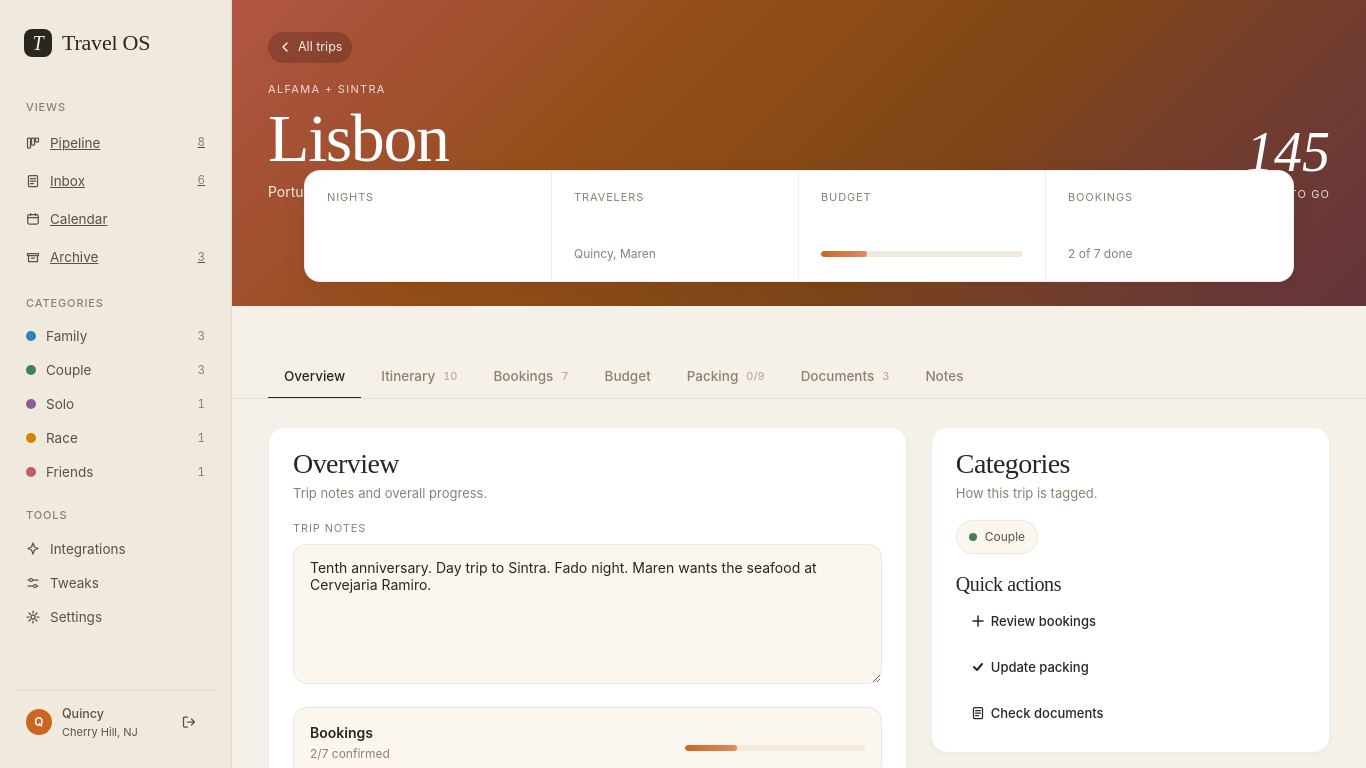
Test: route components › budget split mark paid removes settle row
Expected: the heading "Lisbon" is shown, left=268, top=107, right=467, bottom=171
Click the tab "Budget" at (628, 378), box left=588, top=358, right=667, bottom=399
(page scrolled)
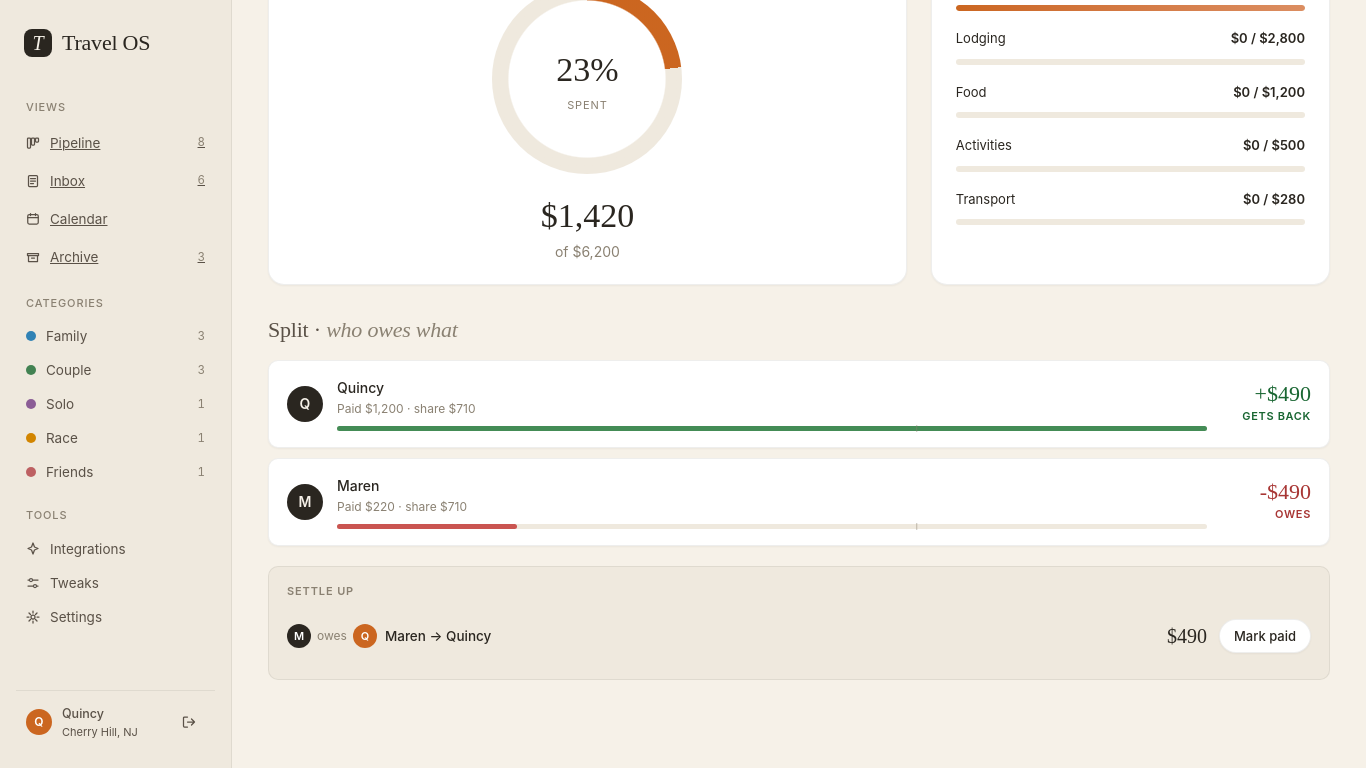
Result: the button "Mark paid" is shown
Click the button "Mark paid" at (1265, 636), box left=1219, top=619, right=1311, bottom=653
(page scrolled)
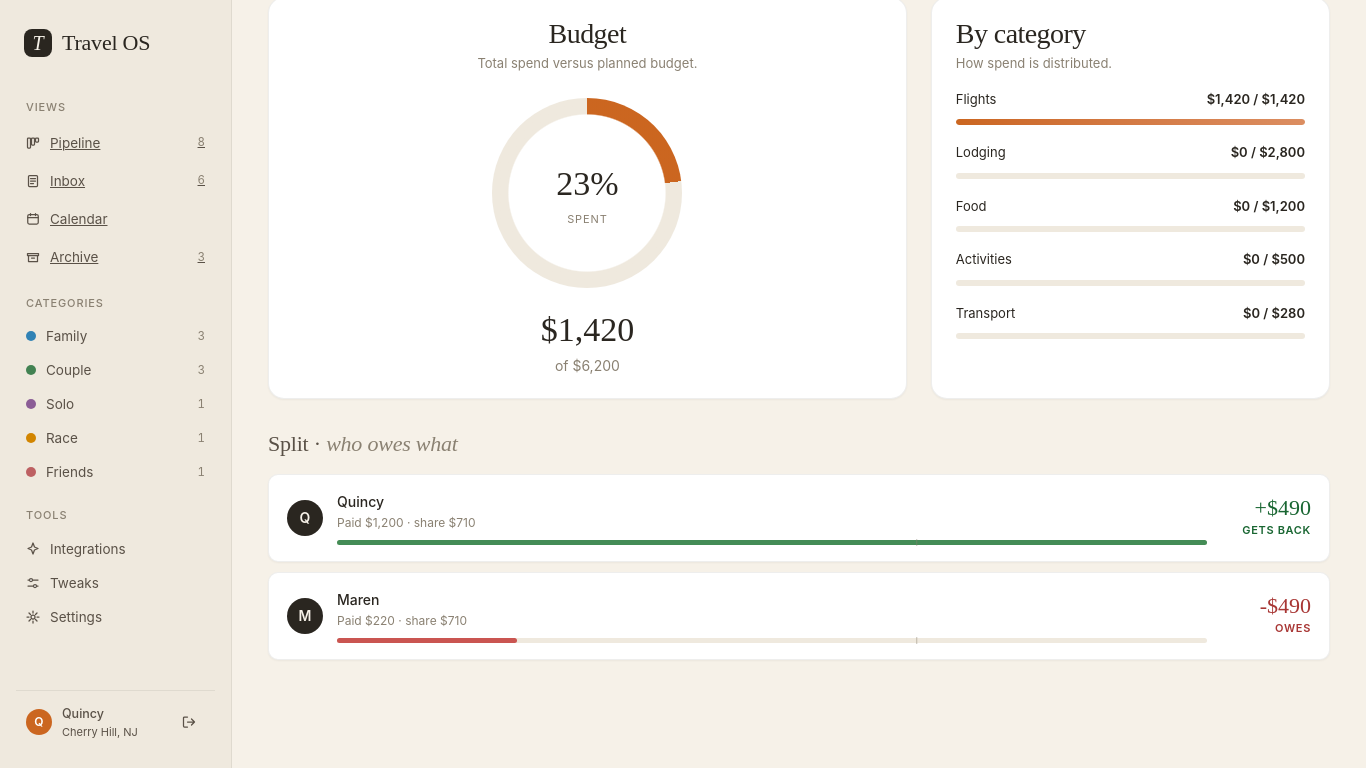
Result: no buttons "Mark paid" are shown
